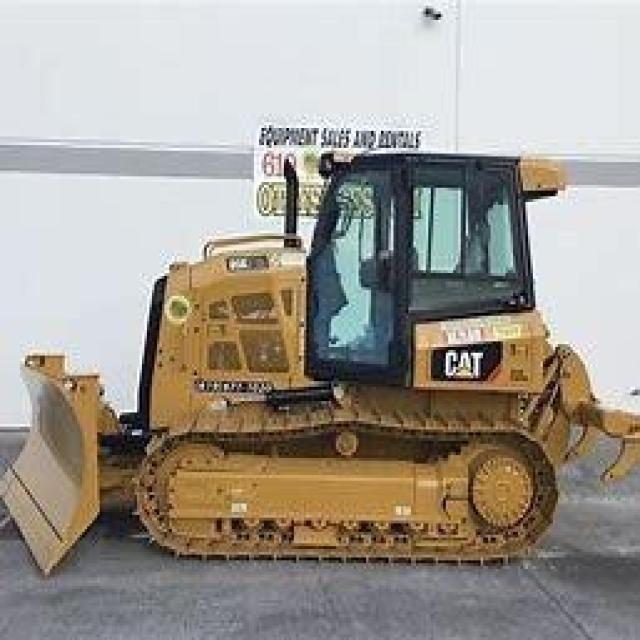buldozerpayloadergrader: (12, 117, 632, 603)
